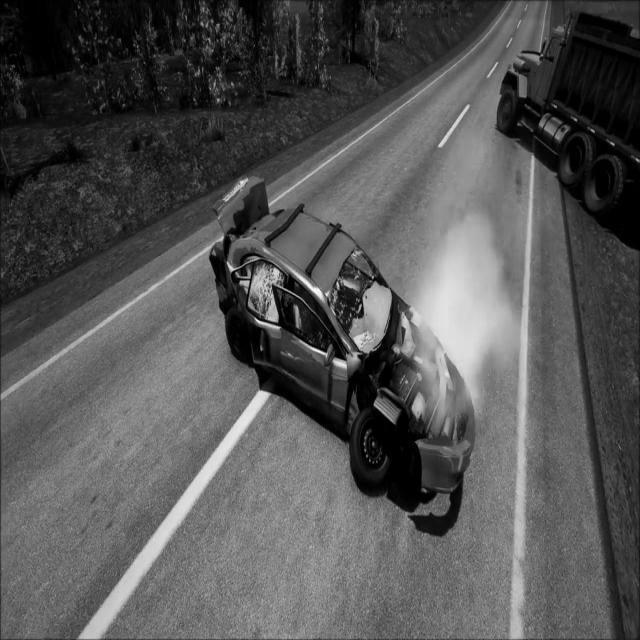accident: (206, 169, 480, 503)
vehicle: (496, 8, 640, 239)
